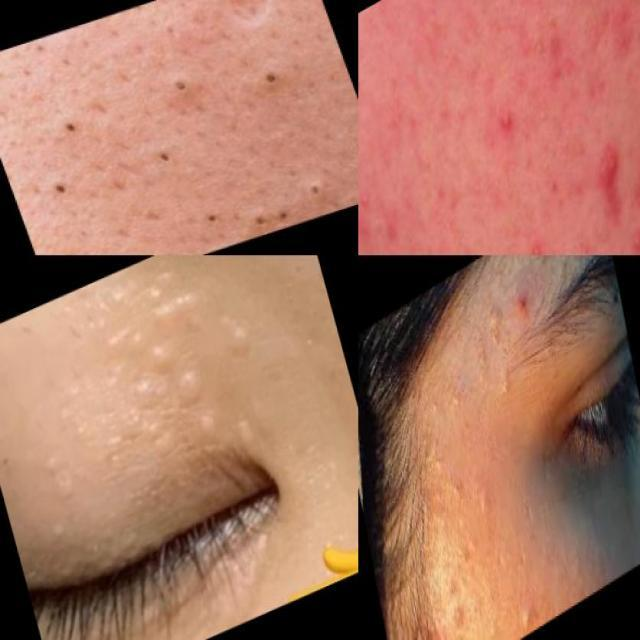Pimples: (68, 255, 212, 365), (82, 347, 181, 464), (15, 88, 119, 170), (235, 171, 335, 238), (188, 0, 305, 50), (590, 120, 636, 236), (232, 53, 302, 114), (42, 155, 98, 221), (420, 356, 467, 432), (214, 299, 258, 366), (137, 128, 192, 179), (472, 259, 506, 341), (170, 354, 212, 416), (502, 586, 548, 640), (140, 328, 185, 380), (483, 360, 522, 420), (437, 446, 469, 518), (192, 203, 232, 252), (432, 564, 466, 617), (494, 92, 524, 148), (472, 475, 498, 531), (515, 223, 549, 256), (166, 72, 200, 104)
